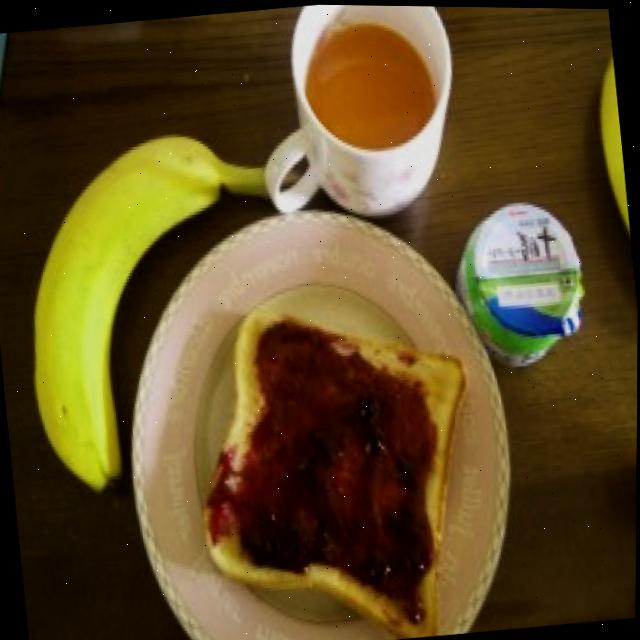面包点心: (186, 287, 485, 640)
